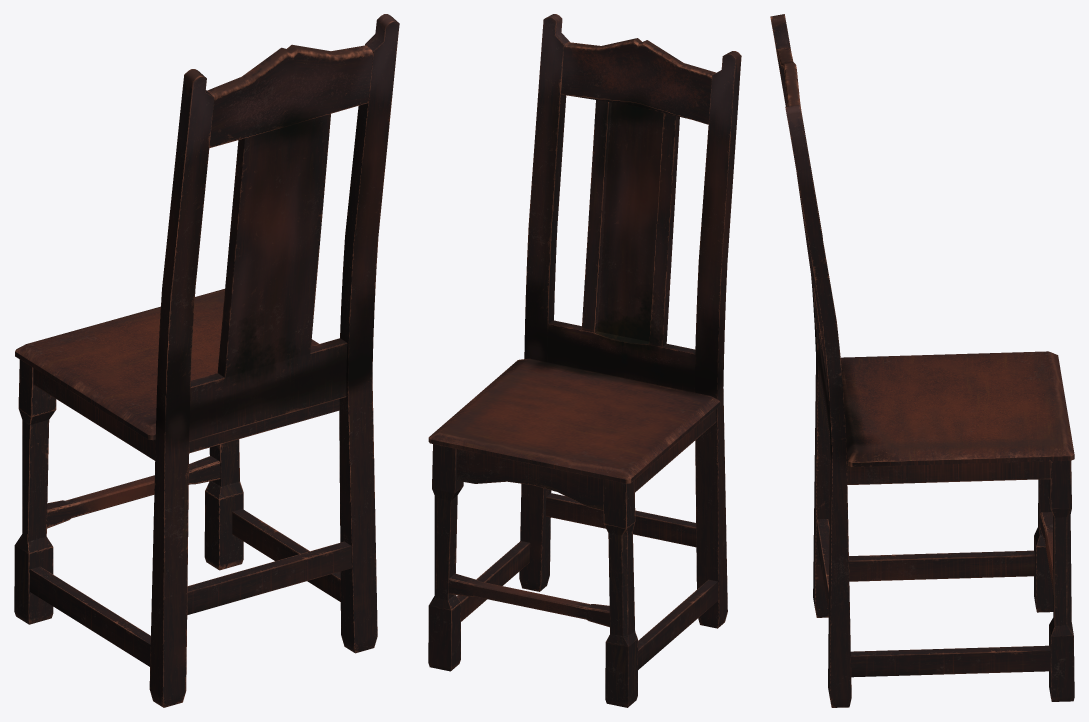
File: ARC0510165.fbx
3 renders of one model, left to right at view 1: azimuth 30°, elevation 25°; view 2: azimuth 150°, elevation 25°; view 3: azimuth 270°, elevation 25°, orthographic. The views are drawn at different scales.
Visible parts, largest first — view 1: smARC0510165; view 2: smARC0510165; view 3: smARC0510165.
Boxes of the visible parts, box(x1,y1,x2,y2) form: smARC0510165: box(14, 14, 399, 707); smARC0510165: box(428, 14, 741, 707); smARC0510165: box(770, 14, 1074, 707).
Size of the model in its own units: 59.93 by 154 by 70.83.
1 material, 1 textured.
